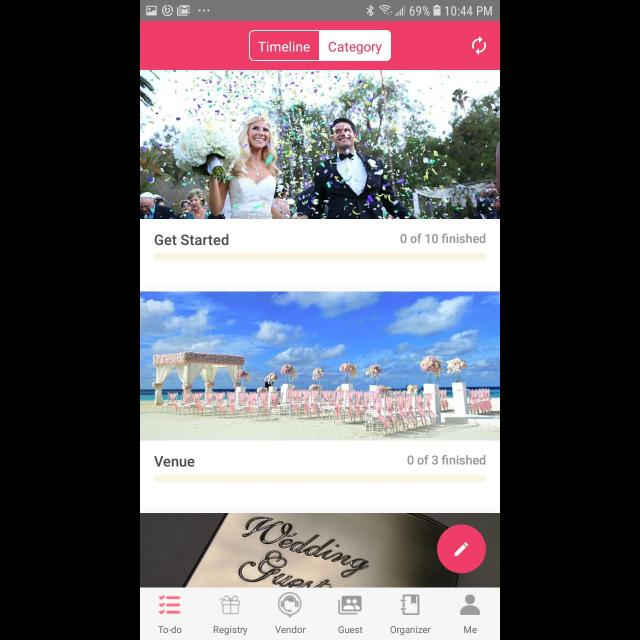icon: (438, 524, 487, 574), (159, 595, 181, 615), (400, 594, 420, 616), (460, 594, 480, 616), (338, 596, 362, 614), (220, 594, 240, 614), (472, 36, 486, 56)
image: (140, 70, 500, 220), (140, 292, 500, 441), (140, 513, 500, 587), (278, 592, 302, 618)
text: (399, 232, 485, 244), (155, 234, 229, 246), (408, 455, 486, 465), (153, 457, 194, 468), (214, 625, 248, 635), (391, 626, 431, 634), (274, 626, 306, 634), (158, 626, 182, 634), (339, 626, 363, 634), (463, 626, 477, 634)
textbutton: (249, 30, 319, 62), (321, 30, 392, 61)
uppertaskbar: (140, 1, 500, 22)
